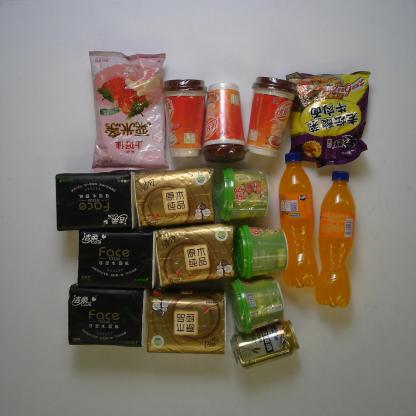Alcohol: (229, 318, 301, 370)
Drink: (315, 169, 356, 309), (278, 153, 318, 289)
Instant Drink: (245, 75, 298, 159), (201, 82, 247, 164), (210, 164, 271, 223), (162, 79, 206, 157), (234, 222, 289, 282), (230, 274, 284, 334)
Instant Noodles: (283, 70, 371, 170)
Puffed Food: (89, 50, 170, 173)
Tissue: (133, 164, 216, 232), (154, 221, 238, 288), (146, 289, 228, 355), (55, 168, 138, 231), (76, 226, 157, 289), (67, 283, 146, 347)
